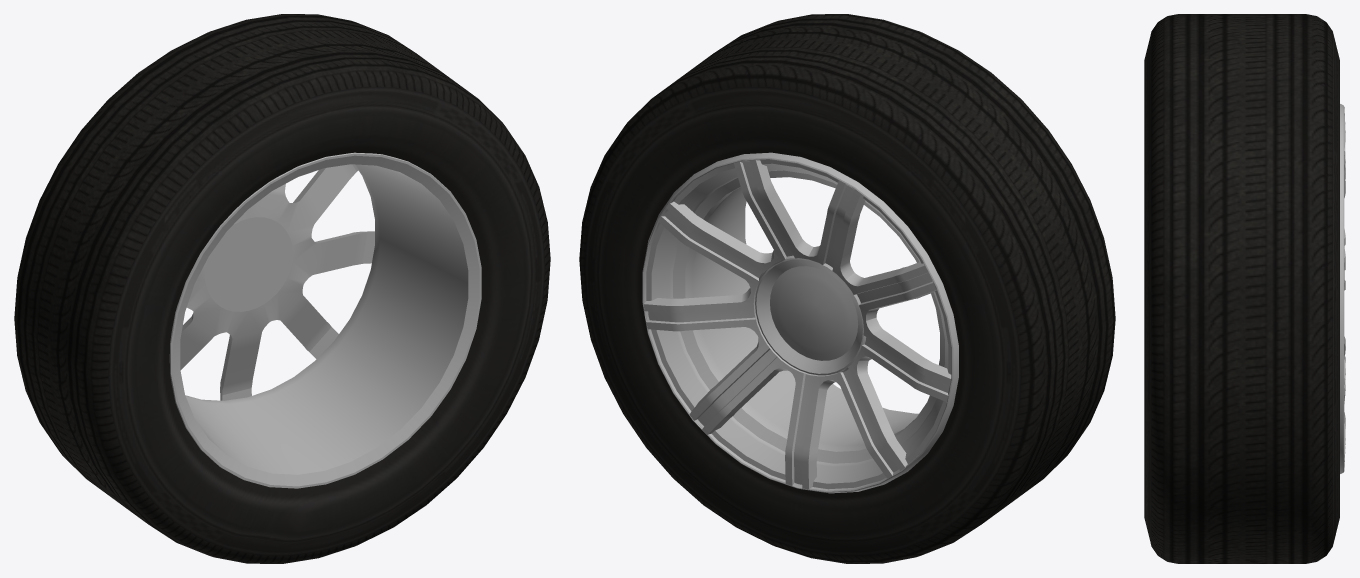
The picture shows the model from 3 angles, left to right: view 1: azimuth 30°, elevation 25°; view 2: azimuth 150°, elevation 25°; view 3: azimuth 270°, elevation 25°; orthographic projection. The views are drawn at different scales.
Visible parts, largest first — view 1: M261_901_B_L_M261_901_B_L_3_DM, M261_901_B_L_2_DaS_M261_901_B_L, M261_901_B_L_M261_901_B_L_1_DaS; view 2: M261_901_B_L_M261_901_B_L_3_DM, M261_901_B_L_2_DaS_M261_901_B_L, M261_901_B_L_M261_901_B_L_1_DaS; view 3: M261_901_B_L_M261_901_B_L_3_DM, M261_901_B_L_2_DaS_M261_901_B_L.
Part boxes in pixels (x1,y1,x2,y2): M261_901_B_L_M261_901_B_L_3_DM: (14,14,550,563); M261_901_B_L_2_DaS_M261_901_B_L: (169,152,481,488); M261_901_B_L_M261_901_B_L_1_DaS: (205,217,293,311); M261_901_B_L_M261_901_B_L_3_DM: (579,14,1115,563); M261_901_B_L_2_DaS_M261_901_B_L: (642,152,958,493); M261_901_B_L_M261_901_B_L_1_DaS: (770,266,858,360); M261_901_B_L_M261_901_B_L_3_DM: (1144,14,1339,563); M261_901_B_L_2_DaS_M261_901_B_L: (1340,104,1345,473).
Size of the model in its own units: 84.02 by 84.02 by 30.77.
